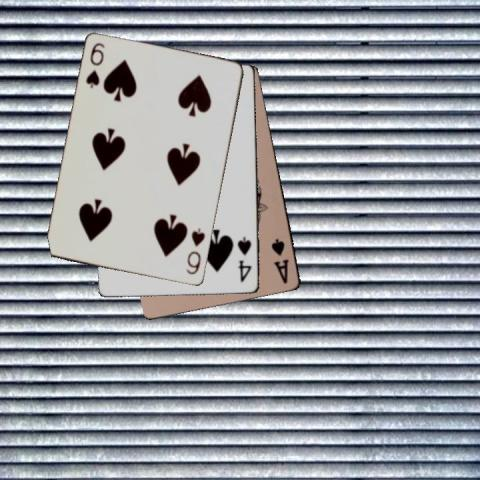4s: (235, 234, 253, 284)
6s: (183, 225, 207, 277), (83, 40, 106, 90)
As: (268, 236, 290, 286)
